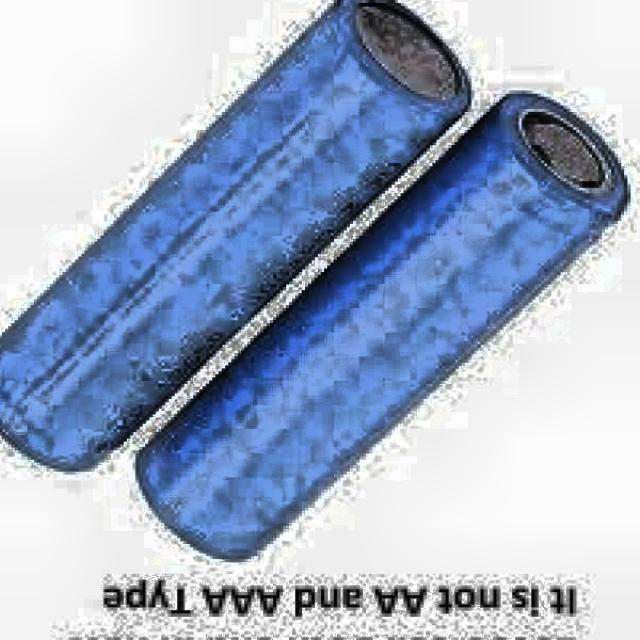battery: (139, 100, 627, 559), (0, 0, 468, 465)
